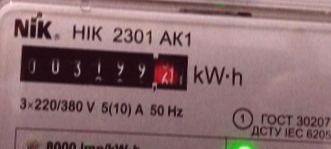0: (50, 57, 63, 77), (27, 56, 38, 75)
1: (95, 57, 105, 76)
3: (72, 59, 84, 79)
6: (160, 70, 171, 85)
9: (115, 58, 127, 79), (137, 62, 149, 80)
screen: (12, 34, 198, 102)
